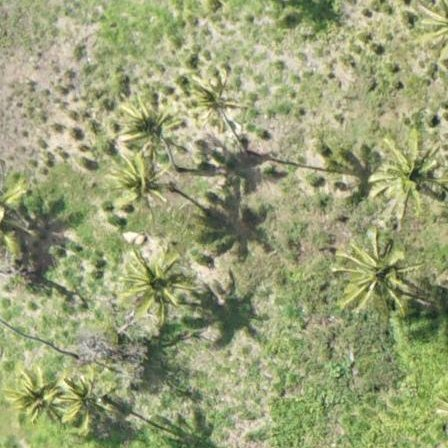palm_tree: (366, 130, 448, 213), (337, 228, 413, 309), (106, 84, 180, 163), (116, 245, 187, 321), (182, 69, 245, 129), (7, 367, 62, 425), (61, 372, 113, 432), (110, 155, 170, 203)
